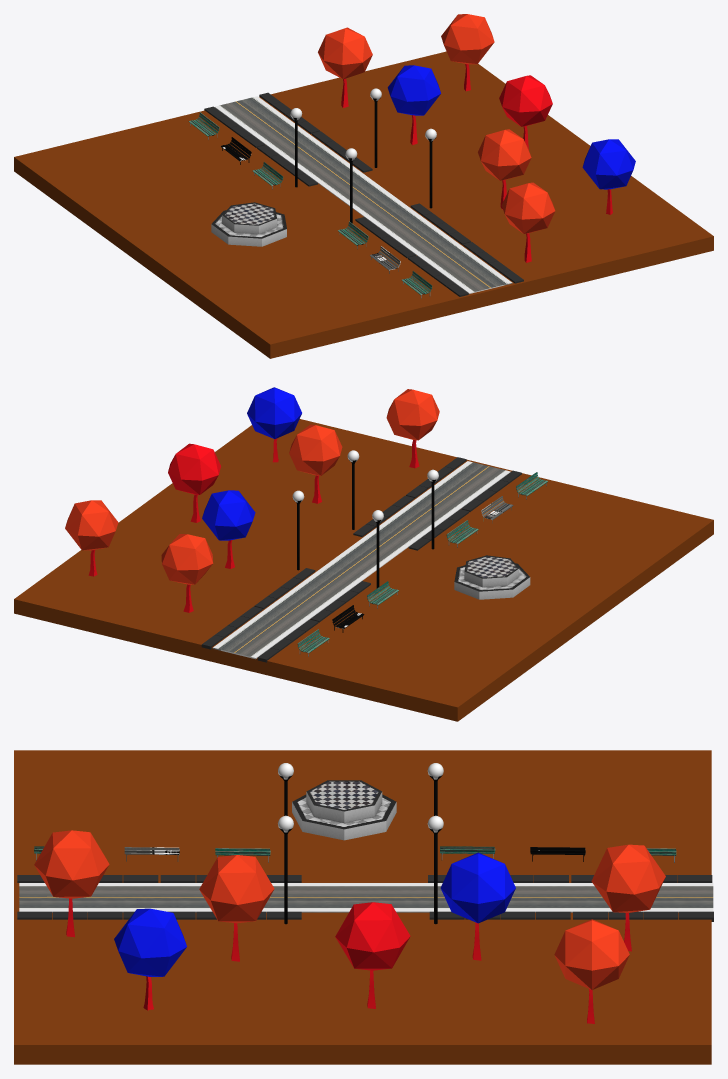
The model's file is URBAN_MAP.obj.
3 renders of one model, top to bottom at view 1: azimuth 30°, elevation 25°; view 2: azimuth 150°, elevation 25°; view 3: azimuth 270°, elevation 25°, orthographic. The views are drawn at different scales.
Parts seen in each view (by area): view 1: Box005, Box002, Pyramid001, GeoSphere004, GeoSphere006, GeoSphere008, GeoSphere002, GeoSphere003, GeoSphere007, GeoSphere005, Box009, Box012 (+4 smaller); view 2: Box005, Box002, Pyramid001, GeoSphere005, GeoSphere006, GeoSphere008, GeoSphere002, GeoSphere007, GeoSphere003, GeoSphere004, Box008, Box003 (+4 smaller); view 3: Box005, Box002, Pyramid001, GeoSphere002, GeoSphere006, GeoSphere007, GeoSphere008, GeoSphere003, GeoSphere004, GeoSphere005, Box008, Box012 (+8 smaller).
Part boxes in pixels (left/top/right/bottom): Box005: left=14, top=51, right=713, bottom=358; Box002: left=214, top=96, right=512, bottom=293; Pyramid001: left=211, top=202, right=286, bottom=246; GeoSphere004: left=318, top=27, right=372, bottom=79; GeoSphere006: left=501, top=182, right=555, bottom=233; GeoSphere008: left=478, top=129, right=531, bottom=180; GeoSphere002: left=499, top=75, right=552, bottom=126; GeoSphere003: left=387, top=65, right=440, bottom=115; GeoSphere007: left=441, top=14, right=494, bottom=64; GeoSphere005: left=582, top=139, right=635, bottom=189; Box009: left=408, top=255, right=468, bottom=296; Box012: left=463, top=242, right=523, bottom=283; Box005: left=14, top=419, right=713, bottom=721; Box002: left=212, top=461, right=510, bottom=659; Pyramid001: left=454, top=555, right=530, bottom=599; GeoSphere005: left=247, top=387, right=301, bottom=438; GeoSphere006: left=386, top=389, right=439, bottom=440; GeoSphere008: left=289, top=424, right=342, bottom=475; GeoSphere002: left=168, top=443, right=220, bottom=494; GeoSphere007: left=65, top=500, right=118, bottom=550; GeoSphere003: left=202, top=490, right=255, bottom=540; GeoSphere004: left=161, top=534, right=213, bottom=584; Box008: left=201, top=606, right=262, bottom=649; Box003: left=257, top=619, right=318, bottom=662; Box005: left=14, top=750, right=711, bottom=1064; Box002: left=19, top=883, right=713, bottom=912; Pyramid001: left=292, top=780, right=396, bottom=840; GeoSphere002: left=335, top=902, right=410, bottom=970; GeoSphere006: left=34, top=830, right=109, bottom=898; GeoSphere007: left=554, top=919, right=629, bottom=989; GeoSphere008: left=199, top=855, right=274, bottom=923; GeoSphere003: left=440, top=852, right=515, bottom=923; GeoSphere004: left=591, top=844, right=665, bottom=912; GeoSphere005: left=114, top=908, right=186, bottom=976; Box008: left=573, top=911, right=713, bottom=921; Box012: left=17, top=911, right=134, bottom=919.
Size of the model in its own units: 500 by 100 by 502.
